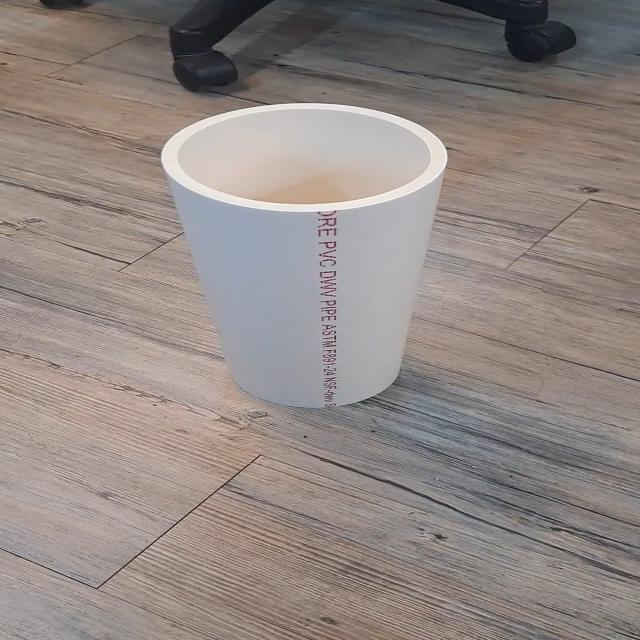CORAL: (137, 92, 485, 441)
